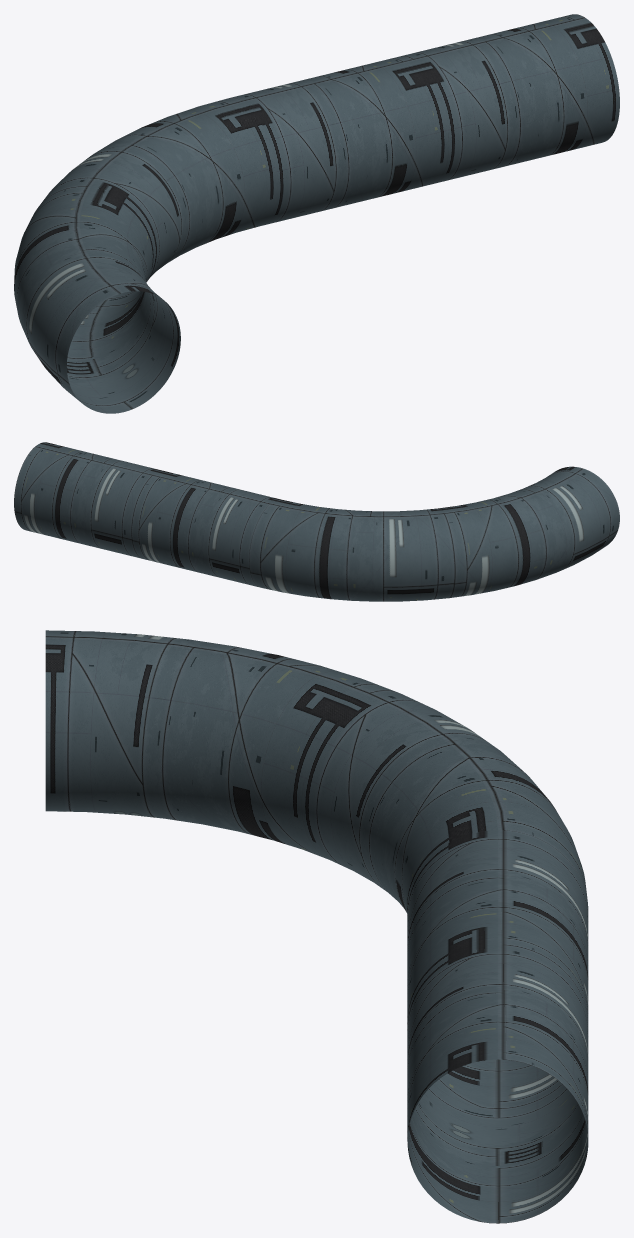
File: hallway.obj
The picture shows the model from 3 angles, top to bottom: view 1: azimuth 30°, elevation 25°; view 2: azimuth 150°, elevation 25°; view 3: azimuth 270°, elevation 25°; orthographic projection. The views are drawn at different scales.
Parts seen in each view (by area): view 1: Circle.001_Circle.003, Circle_Circle.004; view 2: Circle.001_Circle.003, Circle_Circle.004; view 3: Circle.001_Circle.003, Circle_Circle.004.
Part boxes in pixels (<box>): Circle.001_Circle.003: <box>14,97,277,413</box>; Circle_Circle.004: <box>230,14,619,225</box>; Circle.001_Circle.003: <box>249,466,619,601</box>; Circle_Circle.004: <box>14,442,280,586</box>; Circle.001_Circle.003: <box>45,630,587,913</box>; Circle_Circle.004: <box>407,830,588,1223</box>.
Bounding box in the file's own units: 60 × 10 × 30.
1 material, 1 textured.
